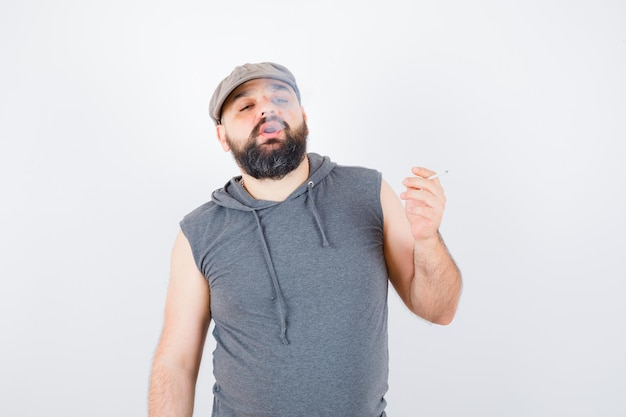cigarette: (424, 168, 451, 182)
